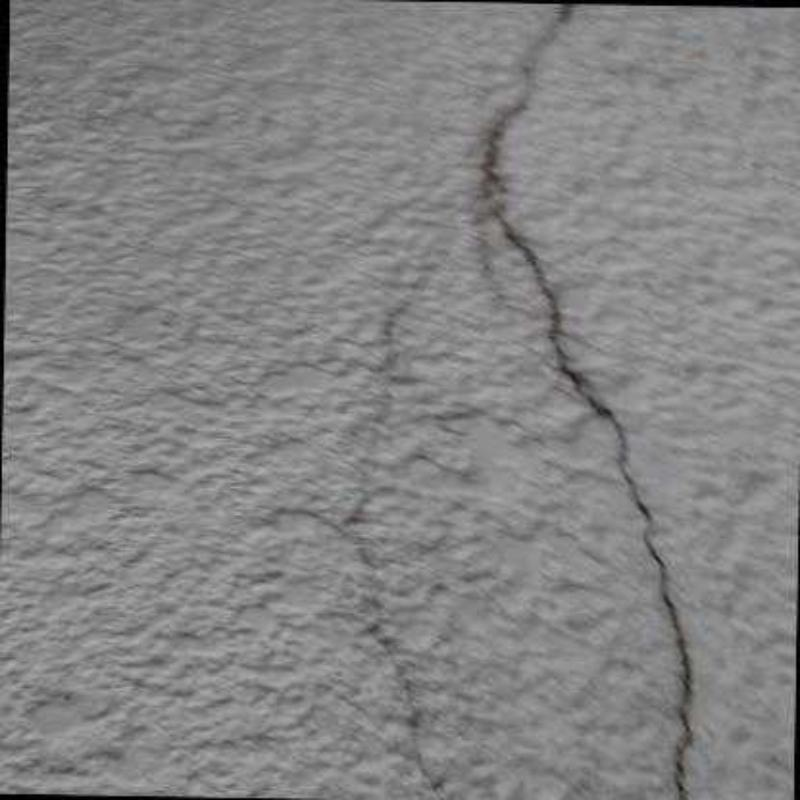pothole: (471, 107, 699, 798), (506, 4, 571, 117)
